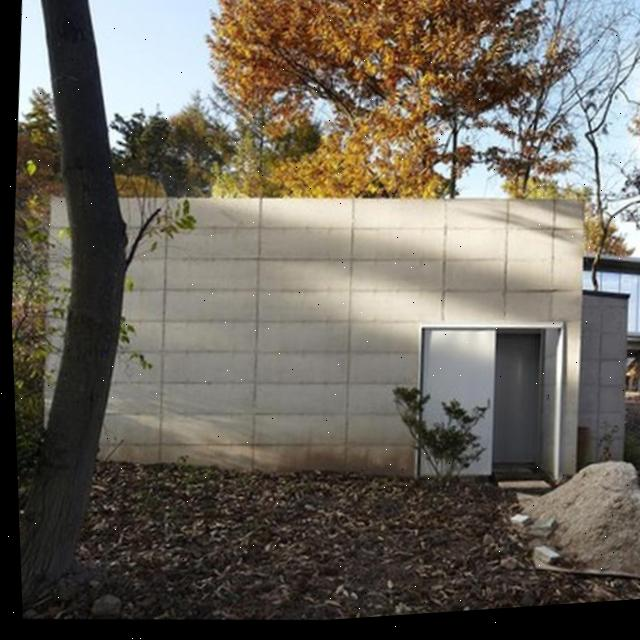building: (25, 148, 640, 544)
